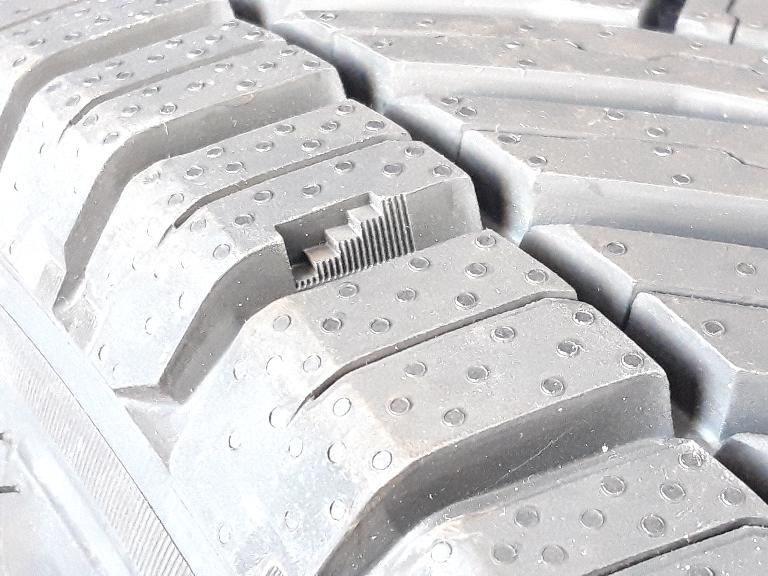temoin:100: (270, 184, 422, 296)
